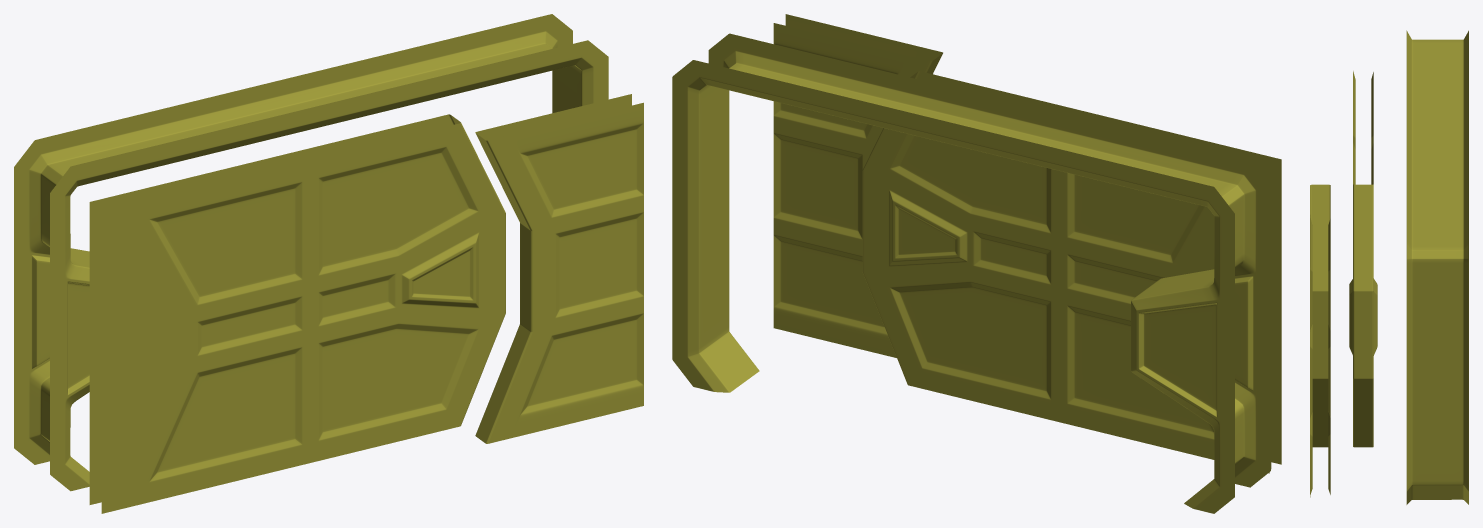
The model's file is DoorHigh.FBX.
The picture shows the model from 3 angles, left to right: view 1: azimuth 30°, elevation 25°; view 2: azimuth 150°, elevation 25°; view 3: azimuth 270°, elevation 25°; orthographic projection. The views are drawn at different scales.
Parts seen in each view (by area): view 1: Box002, SM_BlastDoorFrame_E001, Object002; view 2: Box002, SM_BlastDoorFrame_E001, Object002; view 3: SM_BlastDoorFrame_E001, Box002, Object002.
Boxes of the visible parts, left/top/right/bottom form: Box002: left=89, top=114, right=505, bottom=513; SM_BlastDoorFrame_E001: left=14, top=14, right=608, bottom=491; Object002: left=475, top=94, right=643, bottom=443; Box002: left=862, top=71, right=1281, bottom=473; SM_BlastDoorFrame_E001: left=672, top=33, right=1271, bottom=513; Object002: left=773, top=14, right=942, bottom=357; SM_BlastDoorFrame_E001: left=1406, top=30, right=1468, bottom=504; Box002: left=1349, top=71, right=1377, bottom=447; Object002: left=1310, top=184, right=1330, bottom=497.
Bounding box in the file's own units: 213 × 60.41 × 118.
